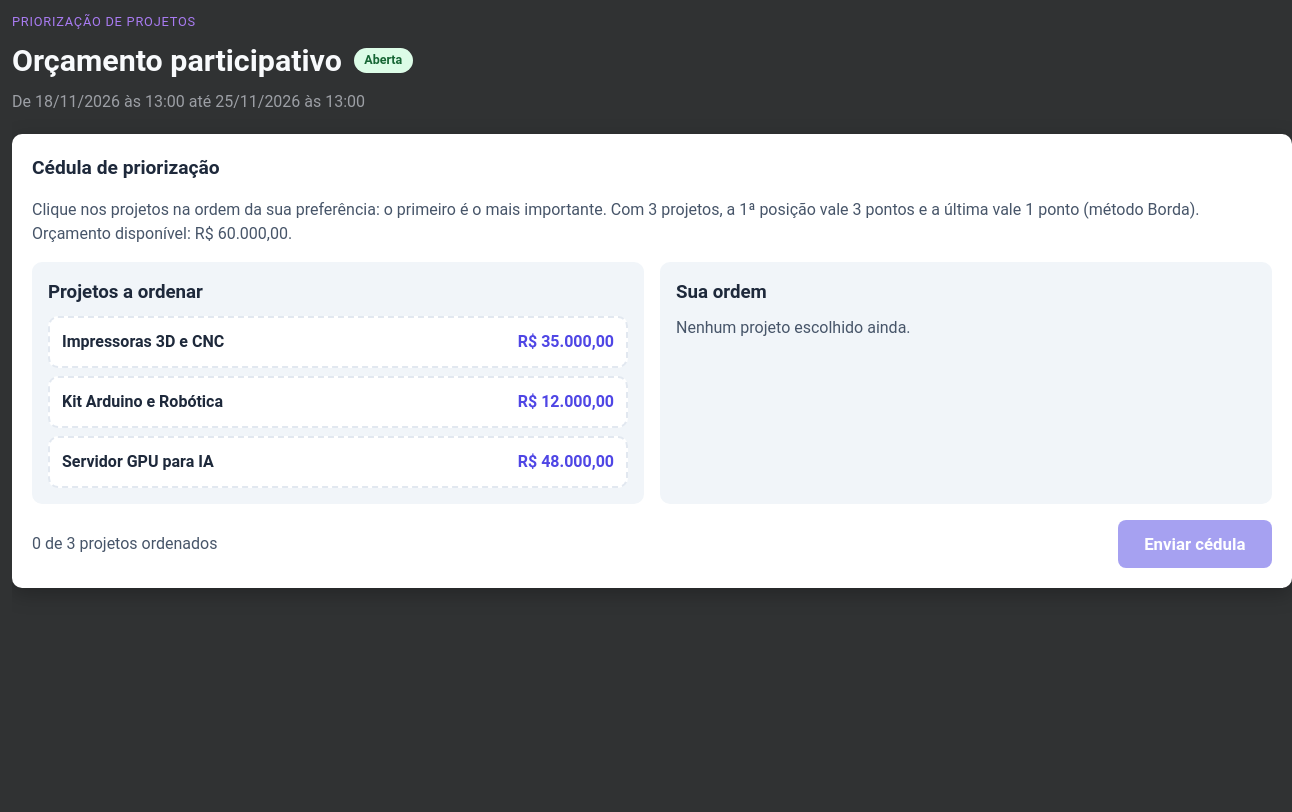
Test: Votar: consulta de priorização (Borda) › subir, descer e remover reorganizam a ordem antes do envio
Expected: the button "Enviar cédula" is shown, [1118,520,1272,568]
Click the button "Impressoras 3D e CNC R$ 35.000,00" at (143, 342), box [48,316,628,368]
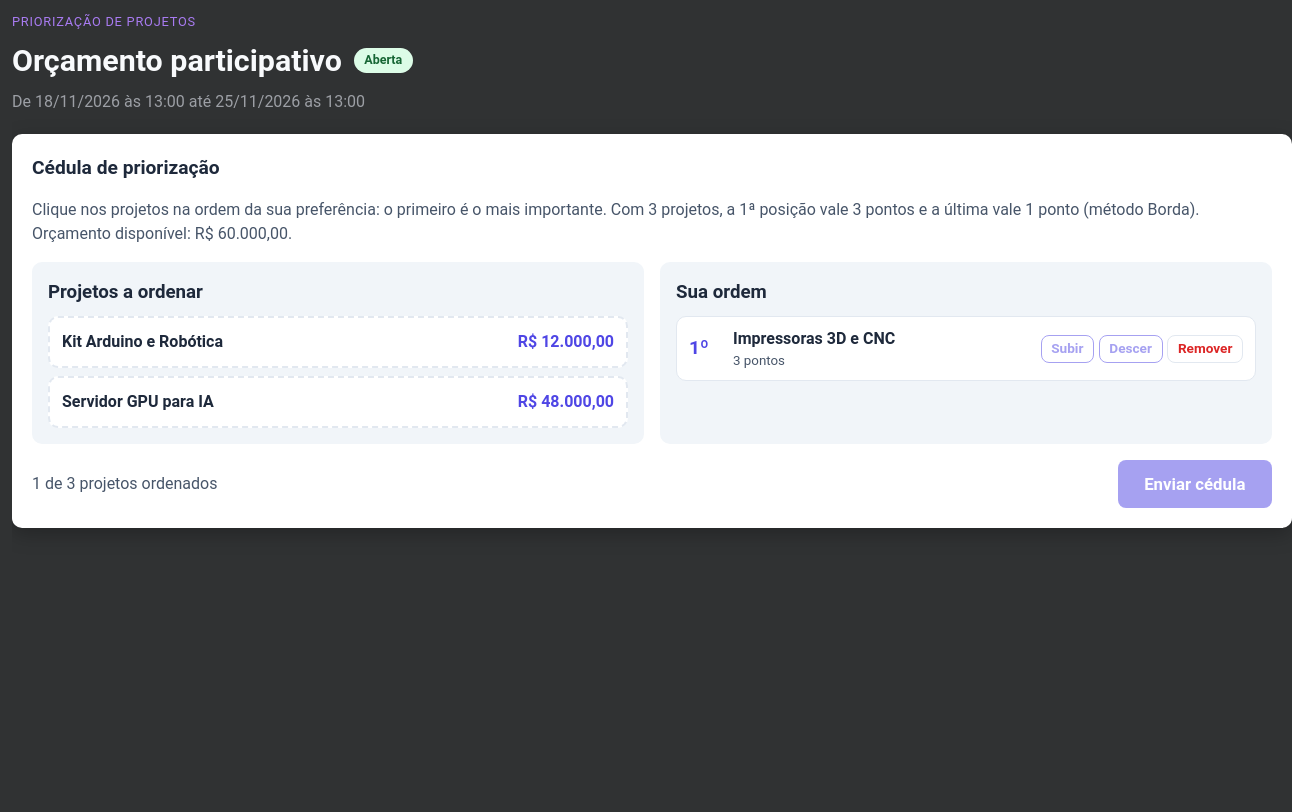
Click the button "Kit Arduino e Robótica R$ 12.000,00" at (143, 342), box [48,316,628,368]
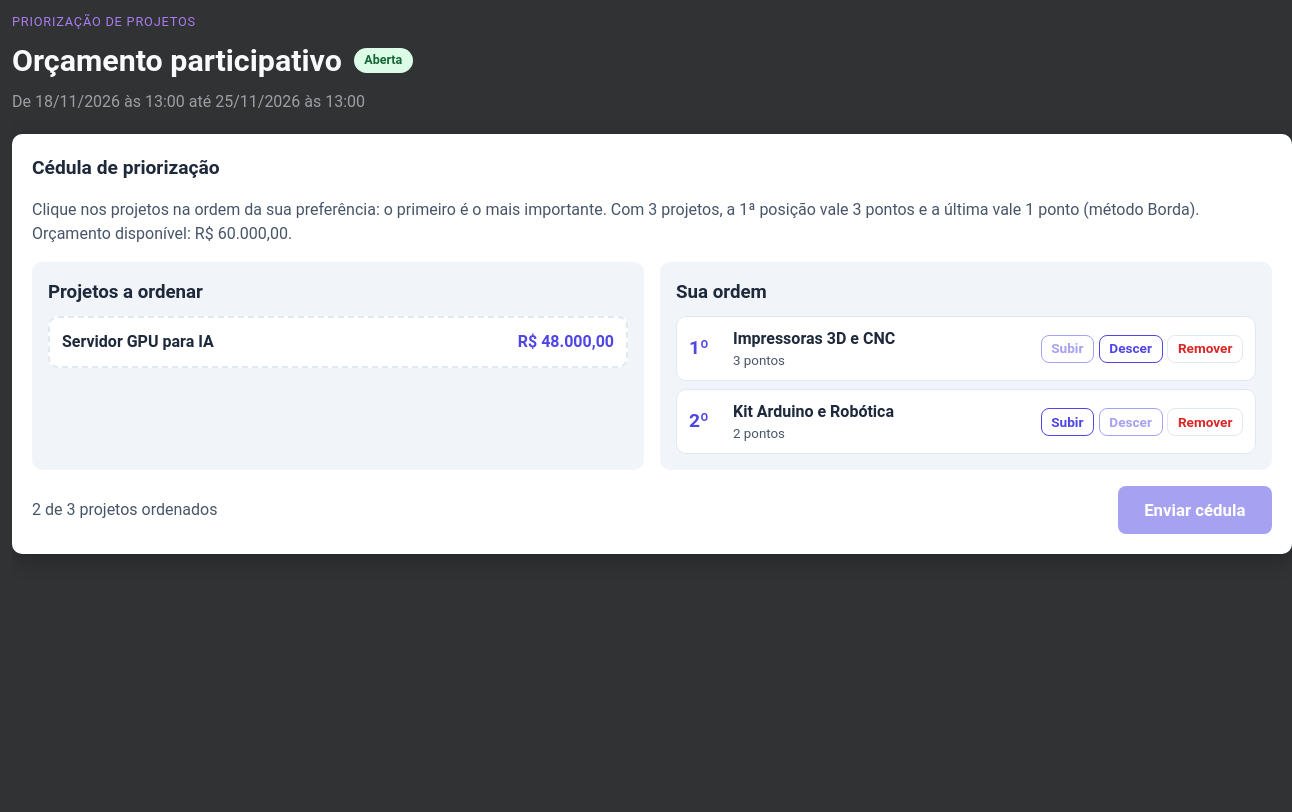
Click the button "Servidor GPU para IA R$ 48.000,00" at (138, 342), box [48,316,628,368]
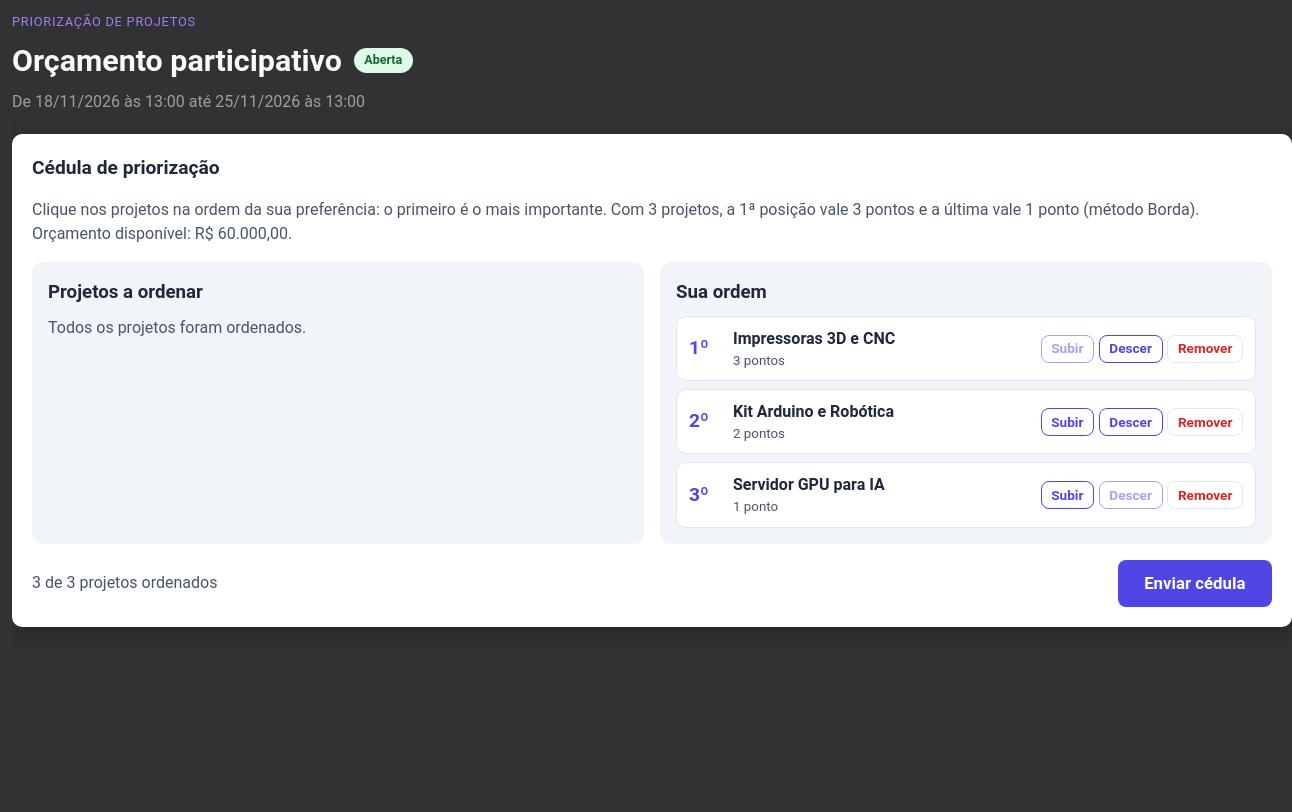
Expected: the button with aria-label "Subir Impressoras 3D e CNC" is disabled, [1041,335,1094,363]
Expected: the button with aria-label "Descer Servidor GPU para IA" is disabled, [1099,481,1163,509]
Click the button with aria-label "Subir Servidor GPU para IA" at (1067, 495), box [1041,481,1094,509]
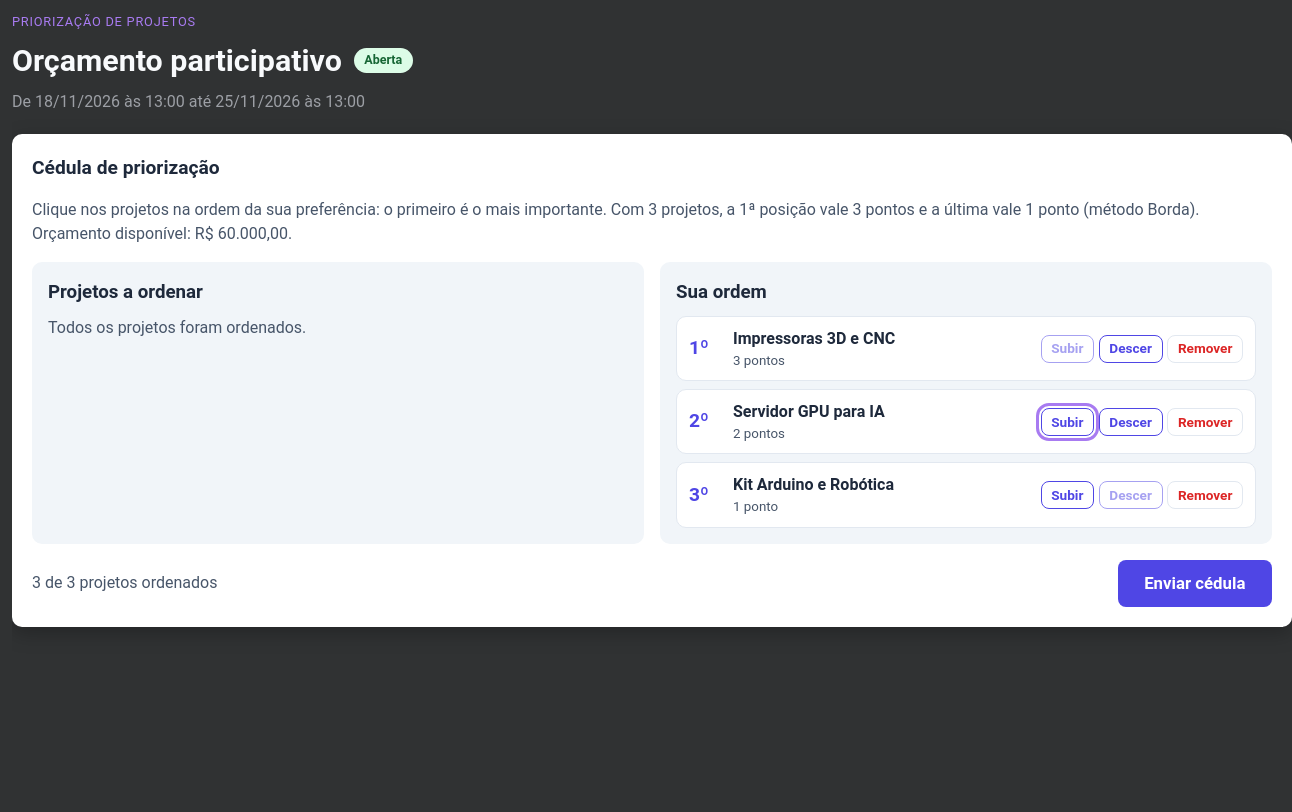
Click the button with aria-label "Descer Impressoras 3D e CNC" at (1131, 349), box [1099,335,1163,363]
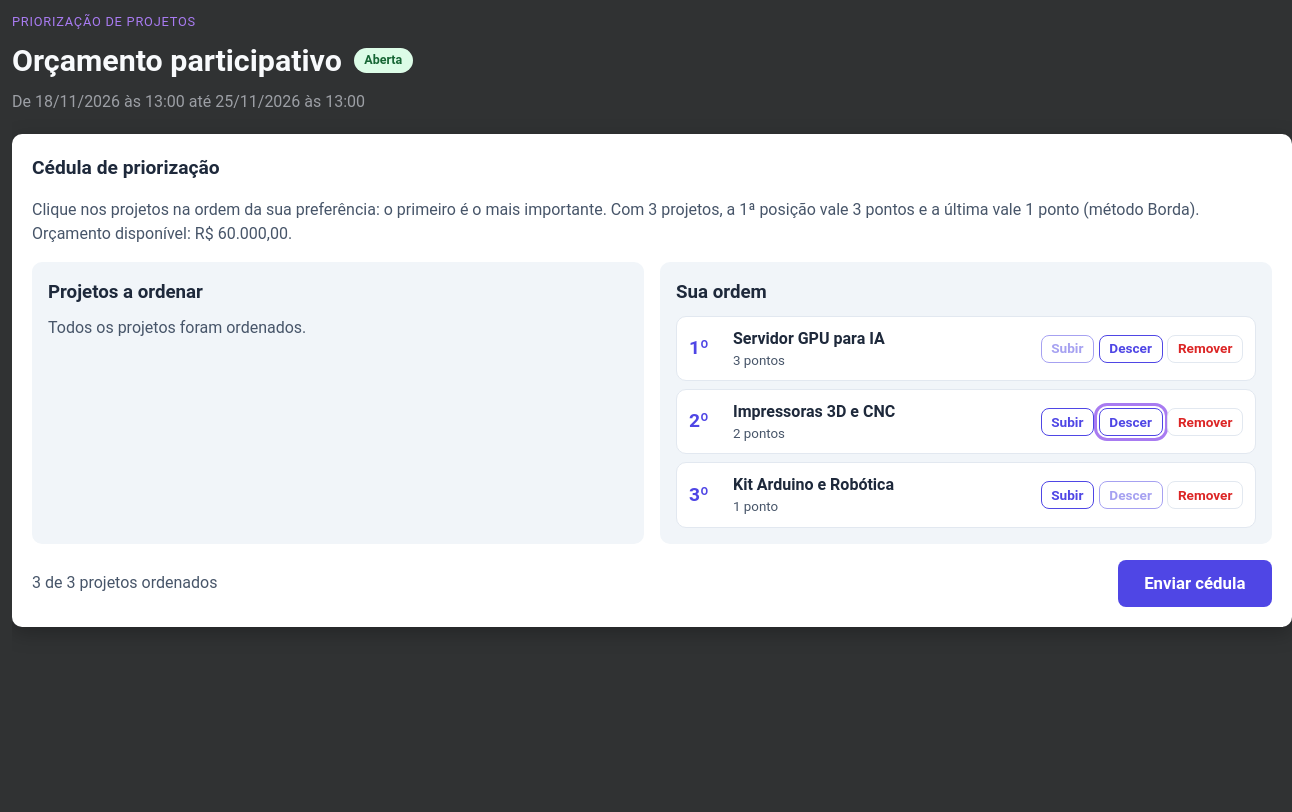
Click the button with aria-label "Remover Impressoras 3D e CNC" at (1205, 422), box [1167,408,1243,436]
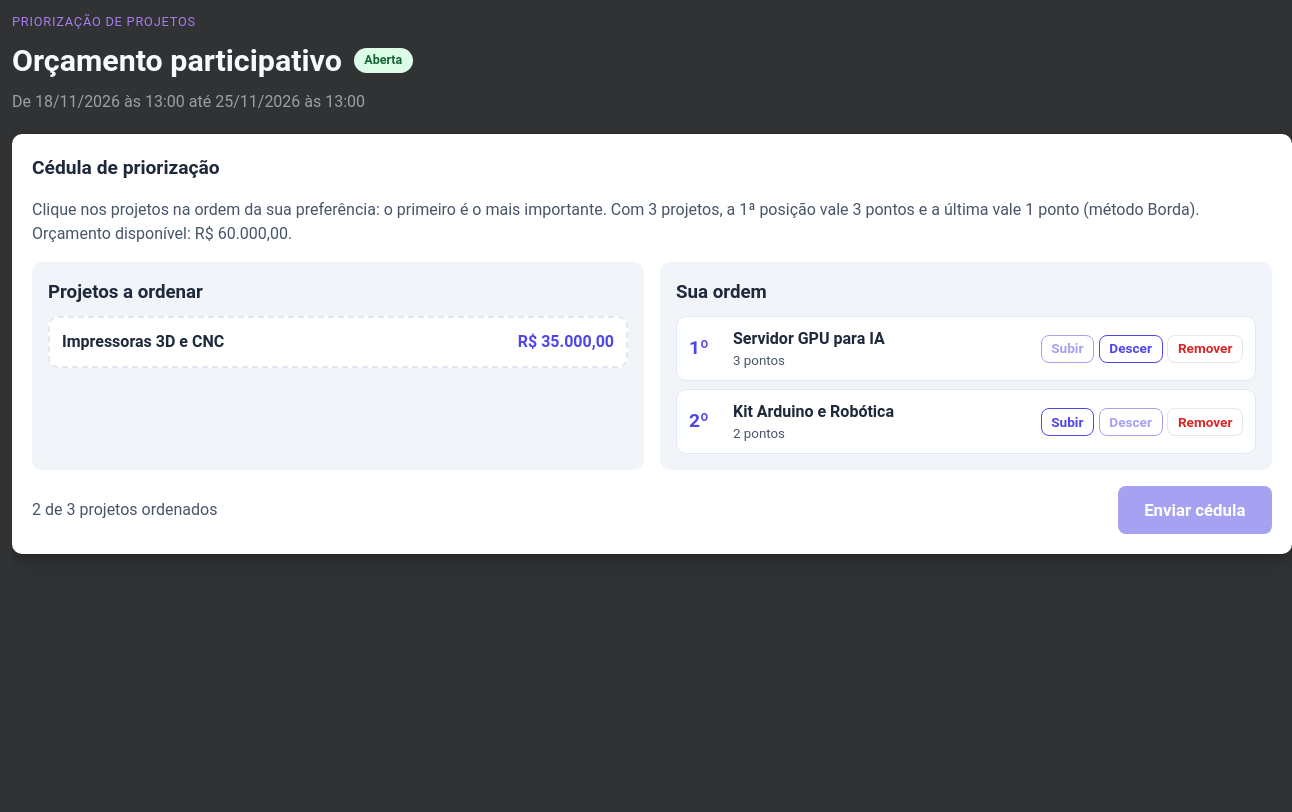
Expected: the button "Enviar cédula" is disabled, [1118,486,1272,534]
Expected: the button "Impressoras 3D e CNC R$ 35.000,00" is shown, [48,316,628,368]
